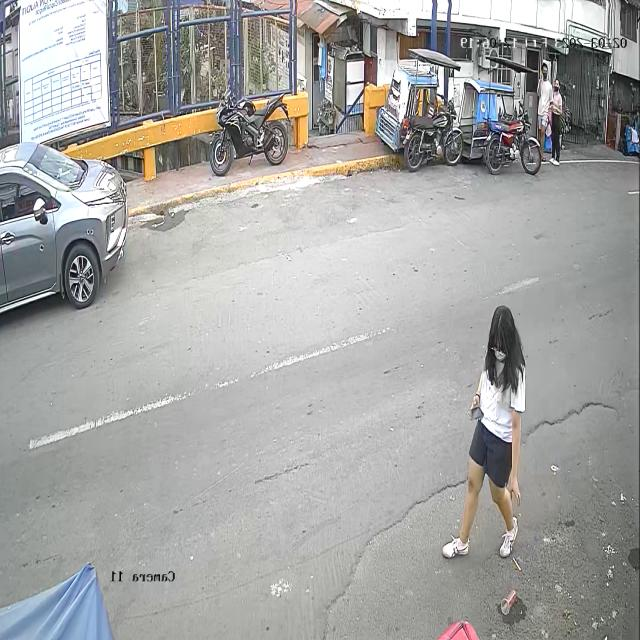human: (443, 305, 526, 616)
trash: (497, 580, 520, 617)
